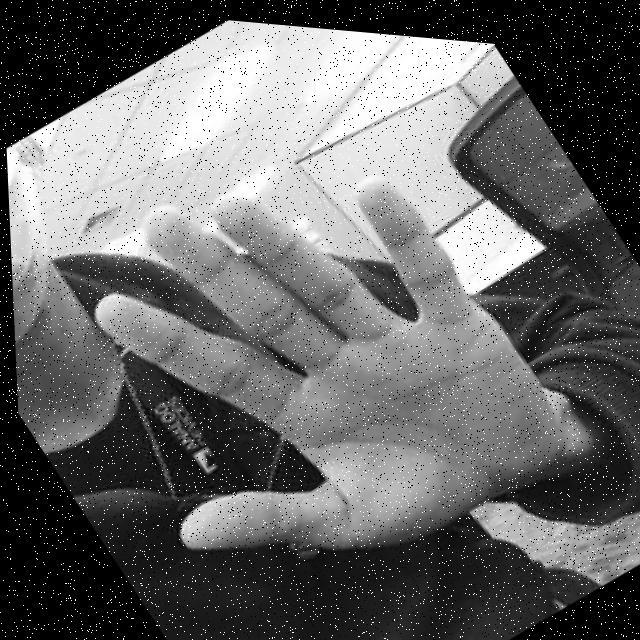no-gloves: (2, 61, 578, 640)
